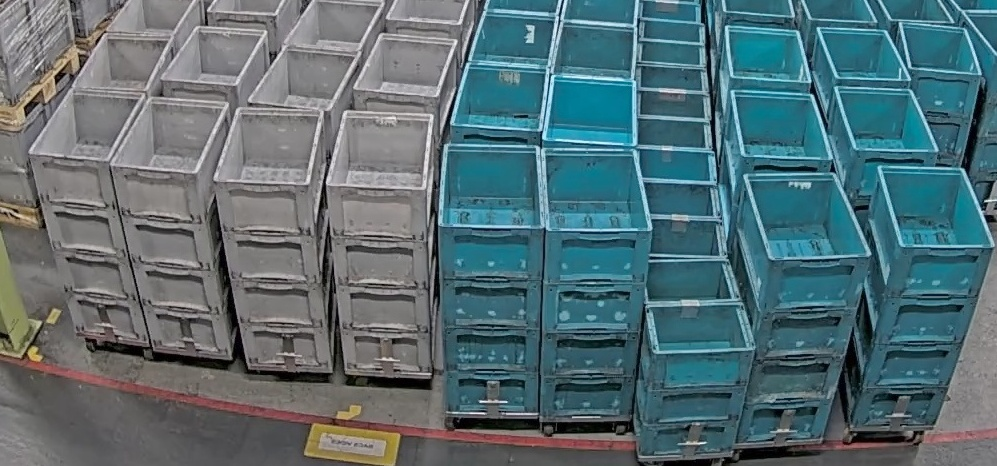4G: (109, 93, 238, 355), (211, 106, 336, 371), (28, 87, 152, 348), (324, 110, 436, 378)
B4: (843, 166, 996, 430), (727, 171, 873, 444), (538, 146, 654, 420), (437, 142, 547, 415), (895, 20, 984, 167)
B8: (632, 257, 756, 458)
